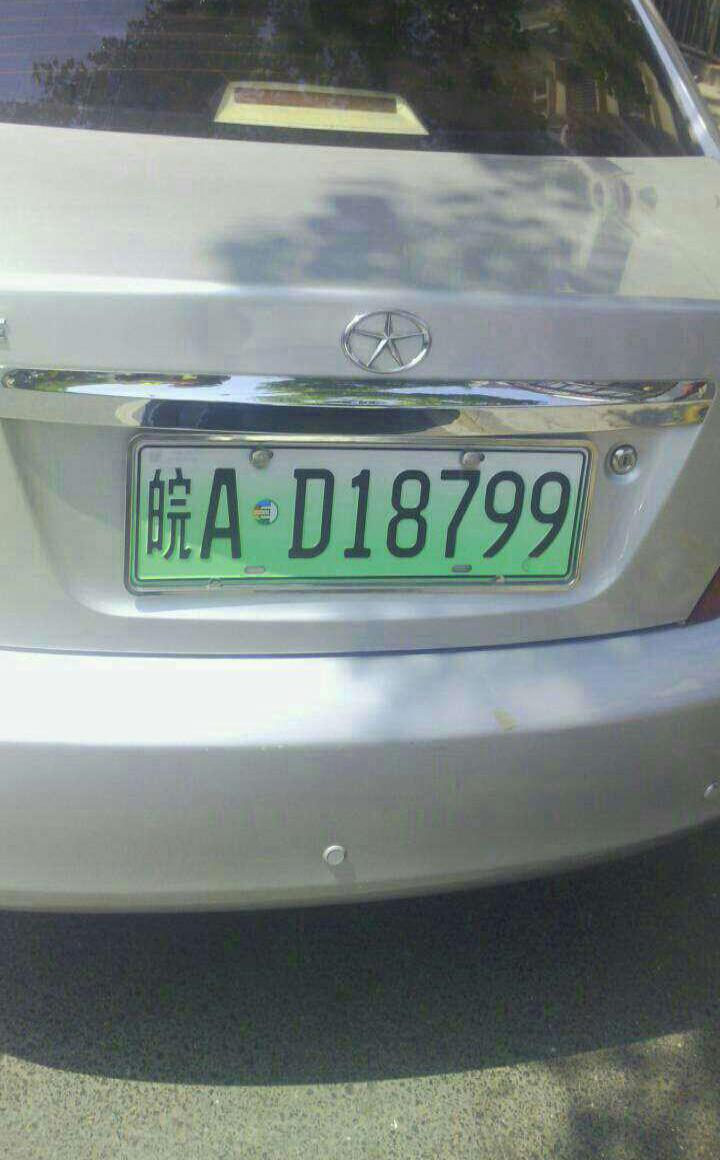car: (128, 433, 615, 583)
